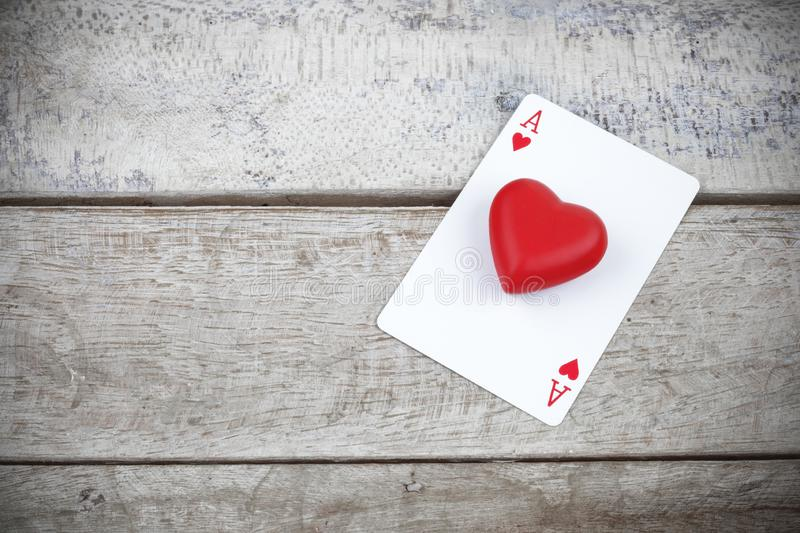ace of hearts: (378, 92, 702, 428)
